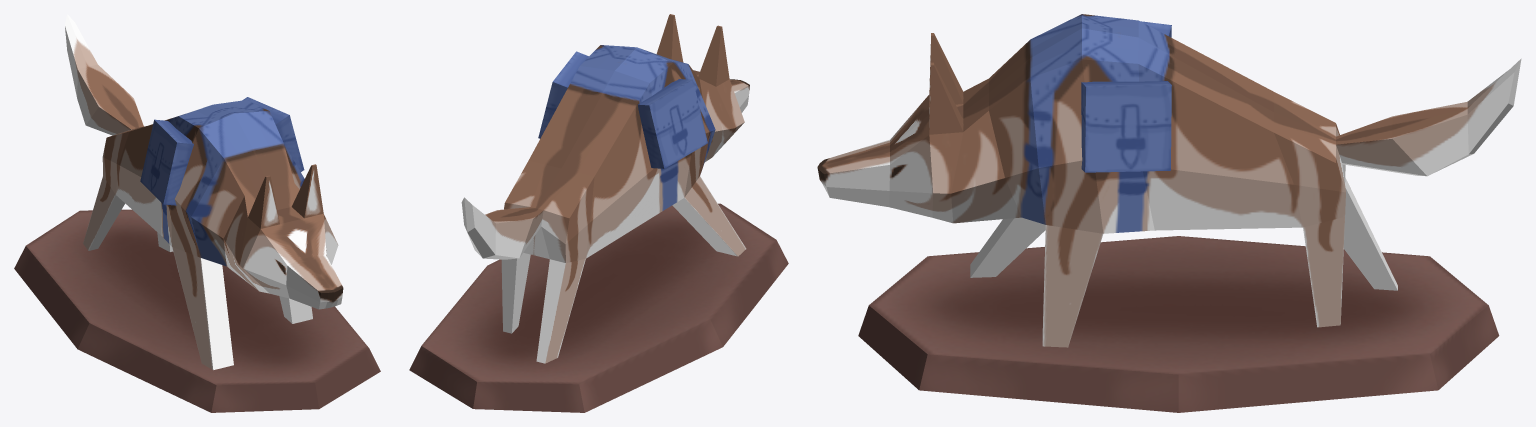
File: Asset_Pawn_dog.fbx
The picture shows the model from 3 angles, left to right: view 1: azimuth 30°, elevation 25°; view 2: azimuth 150°, elevation 25°; view 3: azimuth 270°, elevation 25°; orthographic projection. The views are drawn at different scales.
Visible parts, largest first — view 1: dog_body, dog_stand, Dog_bag; view 2: dog_stand, dog_body, Dog_bag; view 3: dog_body, dog_stand, Dog_bag.
Part boxes in pixels (x1,y1,x2,y2): dog_body: (65, 14, 343, 370); dog_stand: (14, 209, 380, 412); Dog_bag: (140, 97, 304, 205); dog_stand: (409, 203, 788, 412); dog_body: (461, 14, 749, 363); Dog_bag: (538, 51, 707, 168); dog_body: (817, 14, 1521, 347); dog_stand: (858, 236, 1499, 412); Dog_bag: (1081, 21, 1171, 172).
Bounding box in the file's own units: 11.91 × 11.08 × 23.
